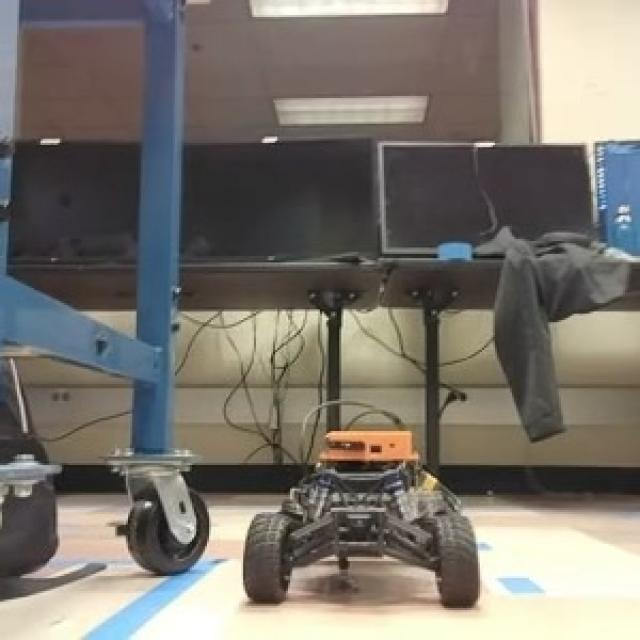obstacle: (243, 424, 476, 601)
